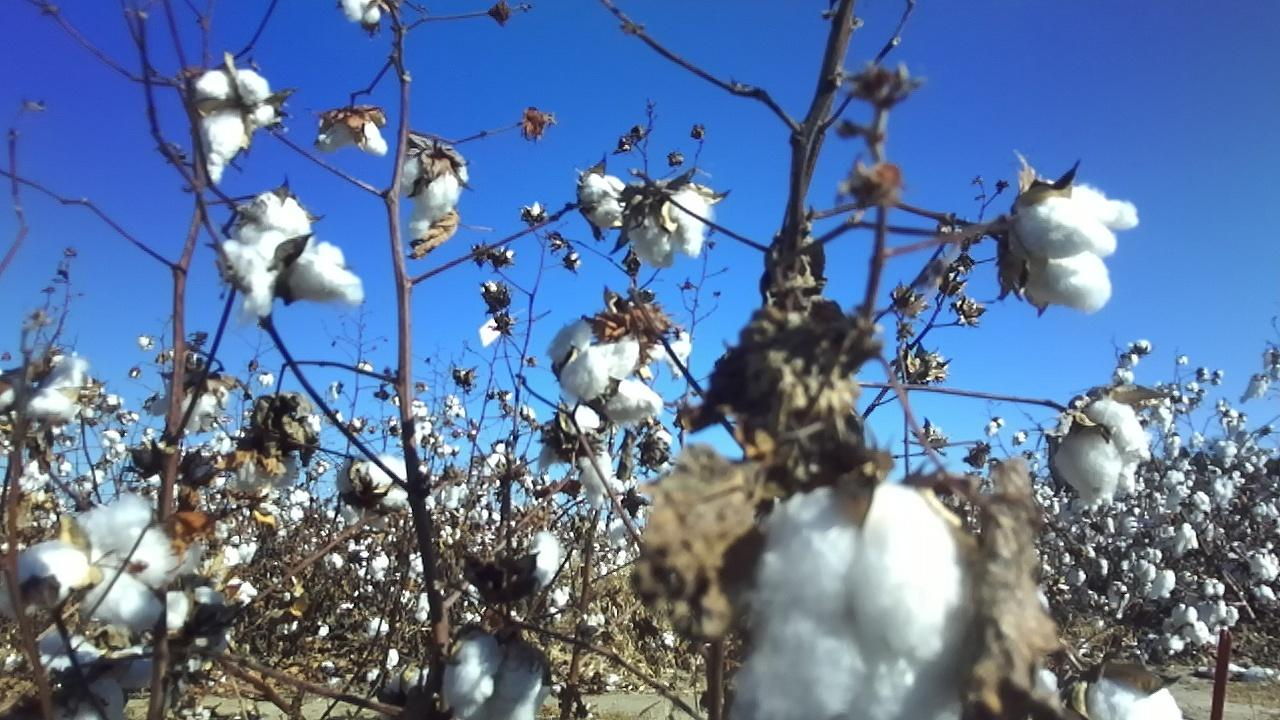cotton_ready: (728, 482, 982, 720), (15, 494, 172, 632), (1016, 184, 1135, 311), (221, 194, 312, 321), (29, 635, 160, 720), (1054, 397, 1152, 510), (197, 69, 275, 192), (447, 634, 549, 720), (537, 407, 619, 504), (552, 312, 640, 401), (1065, 657, 1184, 720), (153, 581, 232, 667), (630, 189, 707, 267), (400, 159, 467, 241), (0, 354, 87, 417), (287, 242, 365, 304), (349, 454, 417, 510), (599, 378, 664, 429), (580, 170, 624, 234), (315, 124, 390, 157), (185, 386, 227, 434)
